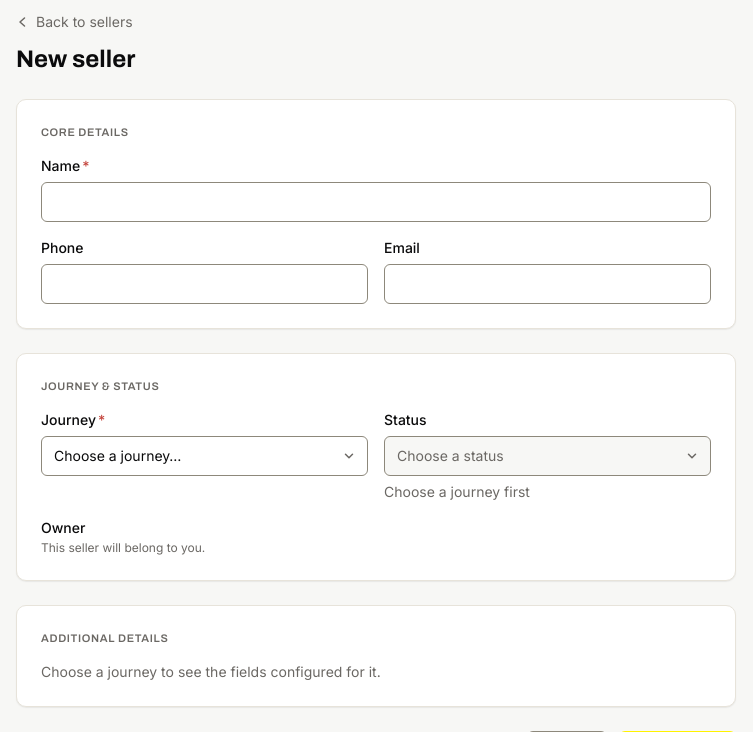
Test case: lead form editMode rendering › renders a locked field as an editable control before it has a value
Select "Journey Alpha" in the dropdown labelled "Journey*" at (204, 456), box [41,436,368,476]
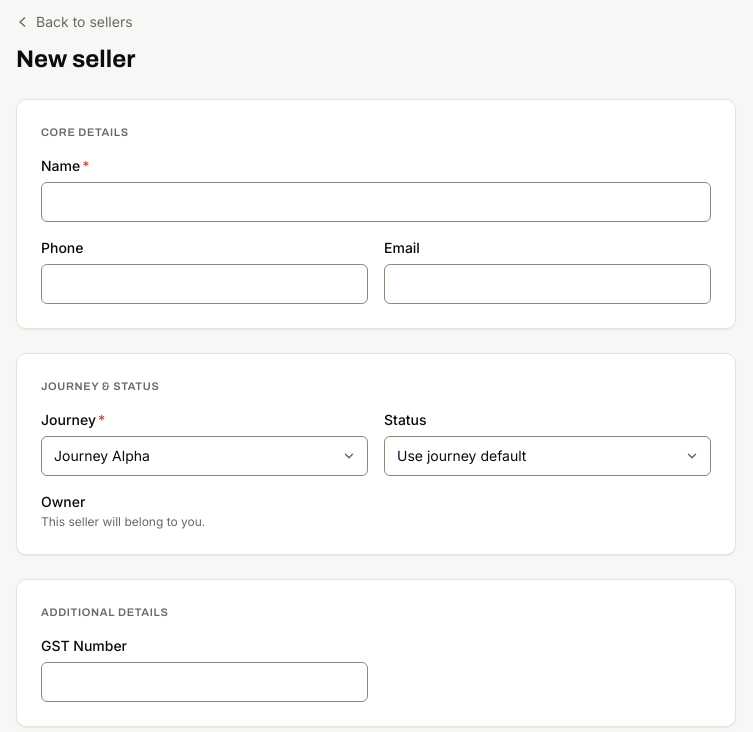
Result: the field labelled "GST Number" is enabled at [41,662,368,702]
